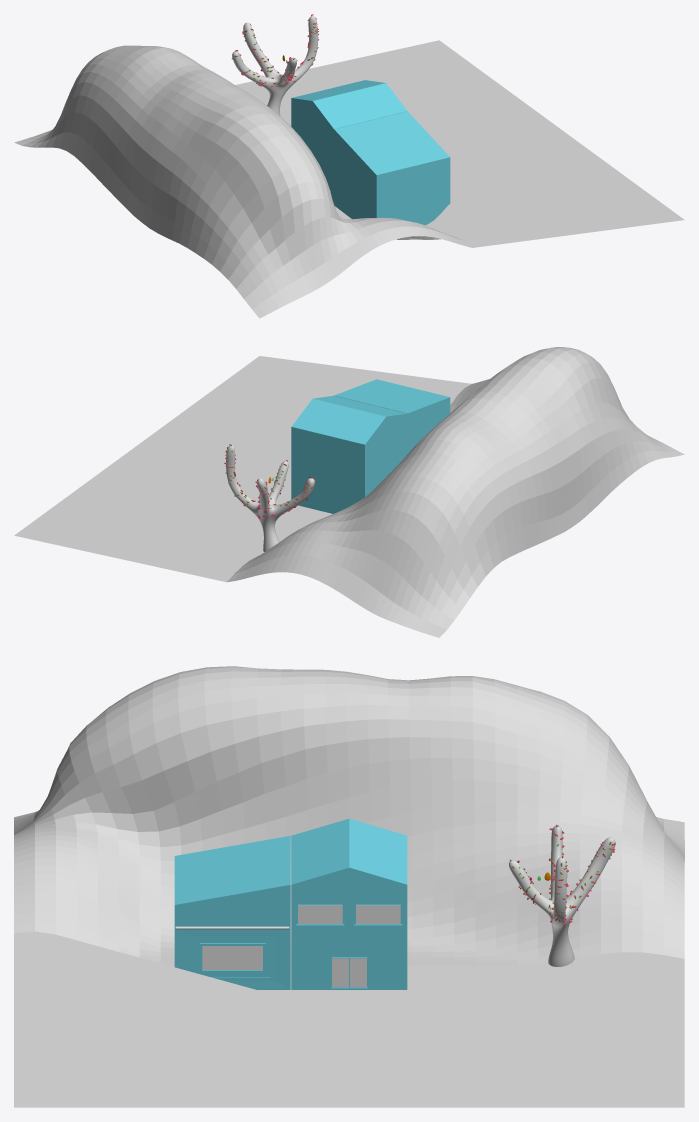
The model's file is SeasonsTree01.fbx.
3 views of the same model, one above another, from view 1: azimuth 30°, elevation 25°; view 2: azimuth 150°, elevation 25°; view 3: azimuth 270°, elevation 25° (orthographic). The views are drawn at different scales.
Visible parts, largest first — view 1: Plane, Cube.001, Cube, Cube.002; view 2: Plane, Cube, Cube.001, Cube.002; view 3: Plane, Cube, Cube.001, Cube.002.
Boxes of the visible parts, x1=… form: Plane: x1=14, y1=40, x2=684, y2=318; Cube.001: x1=334, y1=111, x2=450, y2=225; Cube: x1=291, y1=80, x2=407, y2=202; Cube.002: x1=232, y1=15, x2=318, y2=115; Plane: x1=14, y1=347, x2=684, y2=637; Cube: x1=291, y1=395, x2=407, y2=513; Cube.001: x1=334, y1=379, x2=450, y2=453; Cube.002: x1=226, y1=445, x2=314, y2=551; Plane: x1=14, y1=666, x2=684, y2=1107; Cube: x1=291, y1=818, x2=407, y2=989; Cube.001: x1=174, y1=836, x2=290, y2=989; Cube.002: x1=509, y1=826, x2=615, y2=966.
Size of the model in its own units: 4923 by 1636 by 4885.
